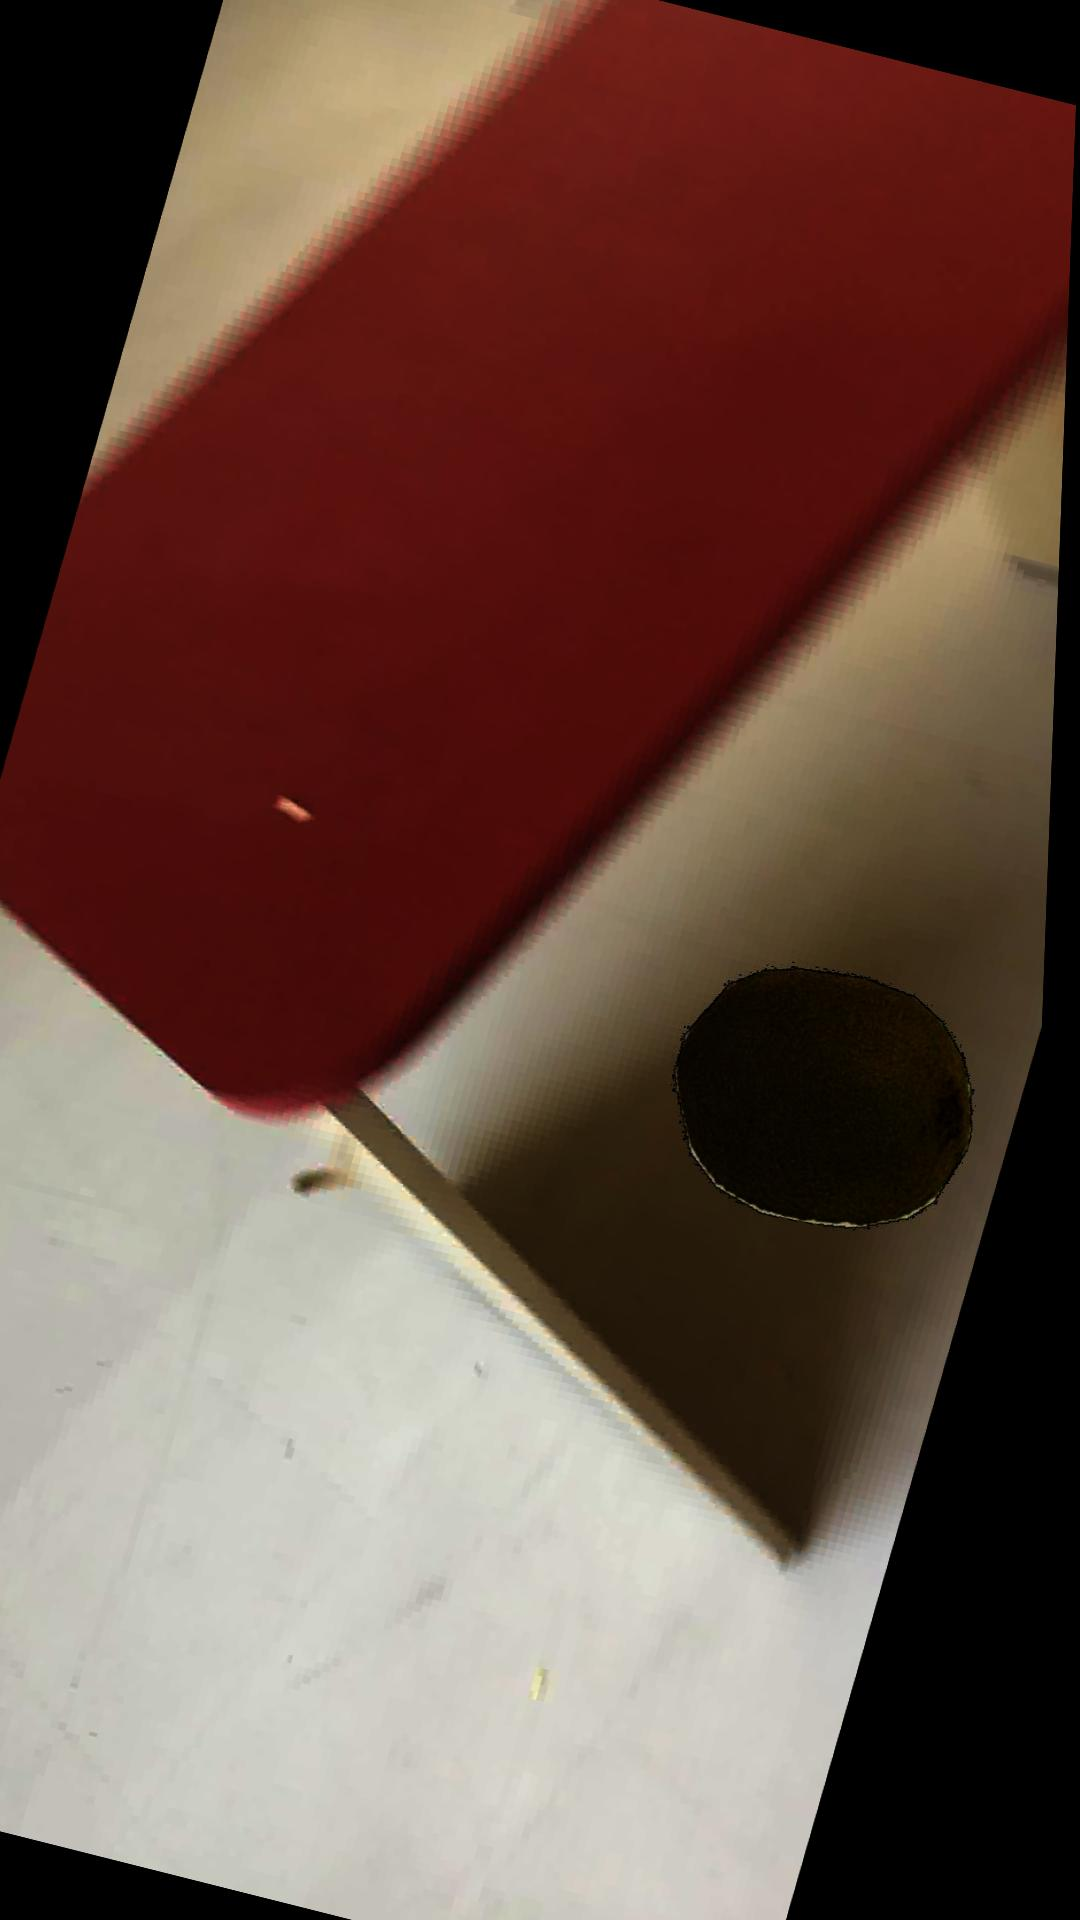kiwi: (683, 965, 984, 1228)
